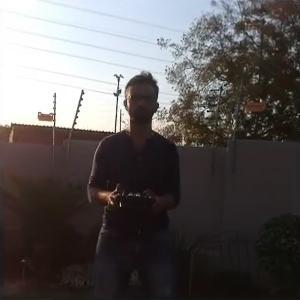follow: (74, 63, 181, 298)
